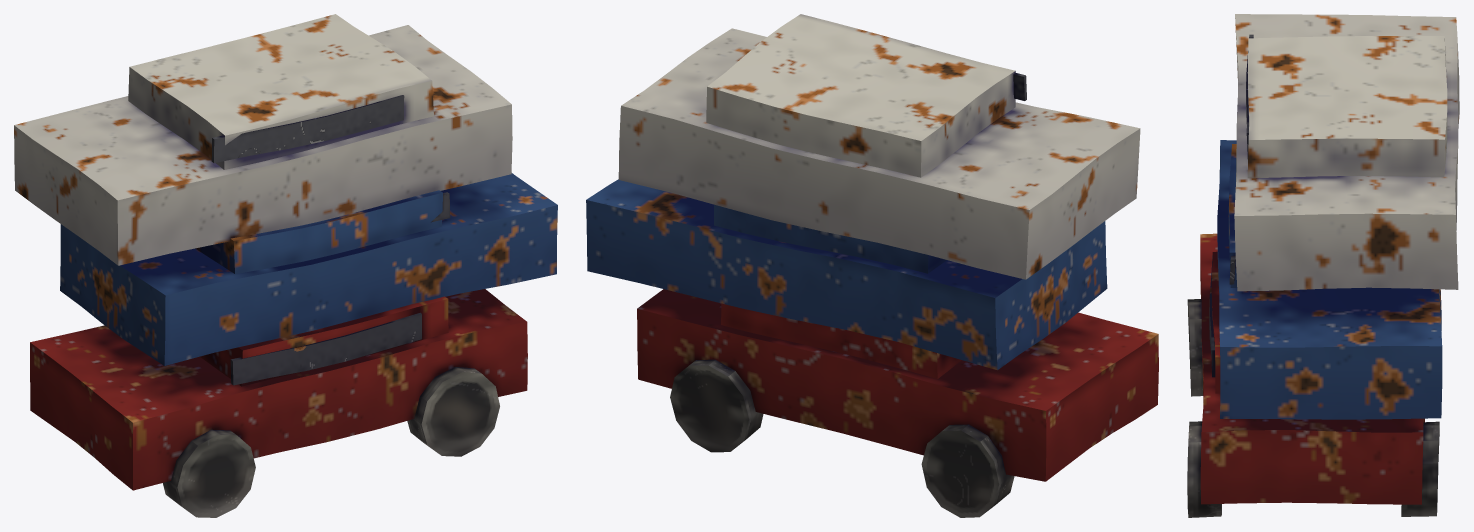
Rendered from CarStack.glb.
The picture shows the model from 3 angles, left to right: view 1: azimuth 30°, elevation 25°; view 2: azimuth 150°, elevation 25°; view 3: azimuth 270°, elevation 25°; orthographic projection. The views are drawn at different scales.
Parts seen in each view (by area): view 1: Car3, Car2, Car1, Wheels, Glass; view 2: Car3, Car1, Car2, Wheels; view 3: Car3, Car2, Car1, Wheels, Glass.
Part boxes in pixels (x1=…): Car3: x1=14, y1=14, x2=512, y2=265; Car2: x1=60, y1=173, x2=557, y2=365; Car1: x1=30, y1=289, x2=527, y2=490; Wheels: x1=163, y1=367, x2=499, y2=517; Glass: x1=211, y1=95, x2=450, y2=385; Car3: x1=618, y1=14, x2=1140, y2=279; Car1: x1=637, y1=289, x2=1158, y2=481; Car2: x1=586, y1=179, x2=1107, y2=370; Wheels: x1=670, y1=359, x2=1014, y2=517; Car3: x1=1234, y1=14, x2=1459, y2=291; Car2: x1=1217, y1=140, x2=1442, y2=419; Car1: x1=1200, y1=233, x2=1424, y2=504; Wheels: x1=1187, y1=299, x2=1439, y2=517; Glass: x1=1209, y1=34, x2=1253, y2=377.
Bounding box in the file's own units: 4.65 × 3.66 × 2.38.
5 materials, 5 textured.
